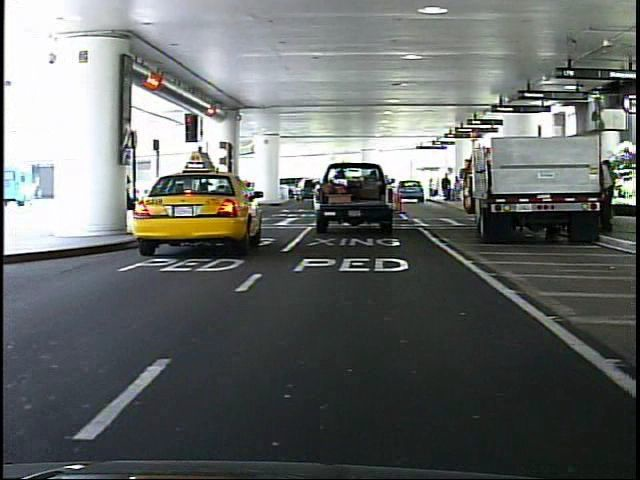person: (194, 167, 214, 215)
